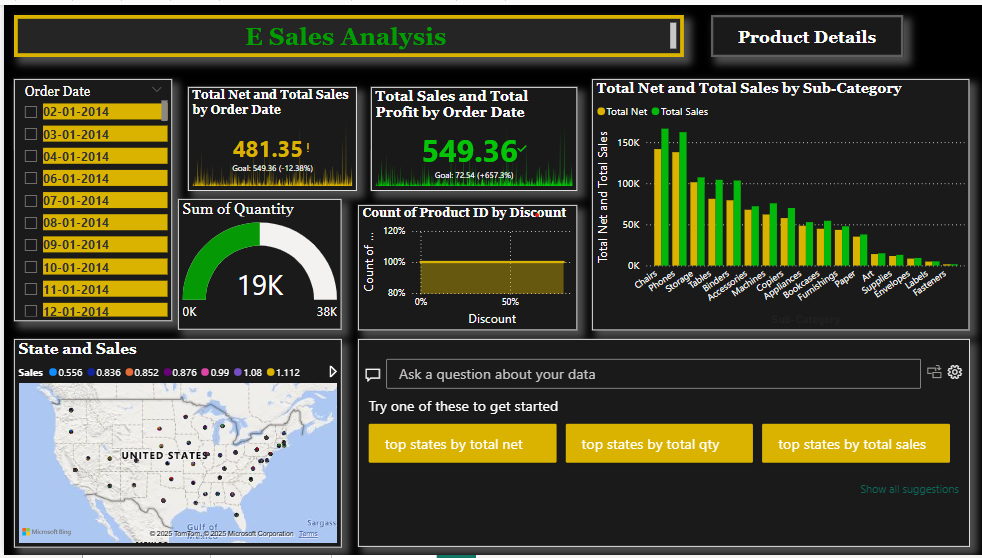

Layout of this report page (visuals, bound fields, positions):
{"tool":"powerbi","page":{"name":"MainDashboard","canvas":[1280,720],"ordinal":0},"visuals":[{"type":"textbox","box":[13.4,13.4,876.9,55.4],"z":0},{"type":"kpi","fields":{"Indicator":["Measure.Total Net"],"TrendLine":["Orders.Order Date"],"Goal":["Measure.Total Sales"]},"box":[241.4,107.1,221.4,135.7],"z":1000},{"type":"kpi","fields":{"TrendLine":["Orders.Order Date"],"Indicator":["Measure.Total Sales"],"Goal":["Measure.Total Profit"]},"box":[480,107.1,270,135.7],"z":2000},{"type":"slicer","fields":{"Values":["Orders.Order Date"]},"box":[13,96.5,207.4,316.8],"z":3000},{"type":"actionButton","box":[925,13.3,251.7,55],"z":4000},{"type":"clusteredColumnChart","fields":{"Category":["Product.Sub-Category"],"Y":["Measure.Total Net","Measure.Total Sales"]},"box":[770,97.1,494.3,328.6],"z":5000},{"type":"gauge","fields":{"Y":["Sum(Orders.Quantity)"]},"box":[227.1,254.3,214.3,171.4],"z":6000},{"type":"map","fields":{"Category":["Customer.State"],"Series":["Orders.Sales"]},"box":[12.9,437.1,428.6,272.9],"z":7000},{"type":"hundredPercentStackedAreaChart","fields":{"Category":["Orders.Discount"],"Y":["CountNonNull(Product.Product ID)"]},"box":[462.9,261.4,287.1,164.3],"z":8000},{"type":"qnaVisual","box":[463.7,437.8,800.6,272.2],"z":9000}]}

Visuals, with their boxes in screenshot pixels (x1, y1, x2, y2), scaled from the page's 1280x720 canvas onto the 982x558 screenshot:
textbox: crop(10, 10, 683, 53)
kpi - Measure.Total Net x Orders.Order Date: crop(185, 83, 355, 188)
kpi - Orders.Order Date x Measure.Total Sales: crop(368, 83, 575, 188)
slicer - Orders.Order Date: crop(10, 75, 169, 320)
actionButton: crop(710, 10, 903, 53)
clusteredColumnChart - Product.Sub-Category x Measure.Total Net: crop(591, 75, 970, 330)
gauge - Sum(Orders.Quantity): crop(174, 197, 339, 330)
map - Customer.State x Orders.Sales: crop(10, 339, 339, 550)
hundredPercentStackedAreaChart - Orders.Discount x CountNonNull(Product.Product ID): crop(355, 203, 575, 330)
qnaVisual: crop(356, 339, 970, 550)
